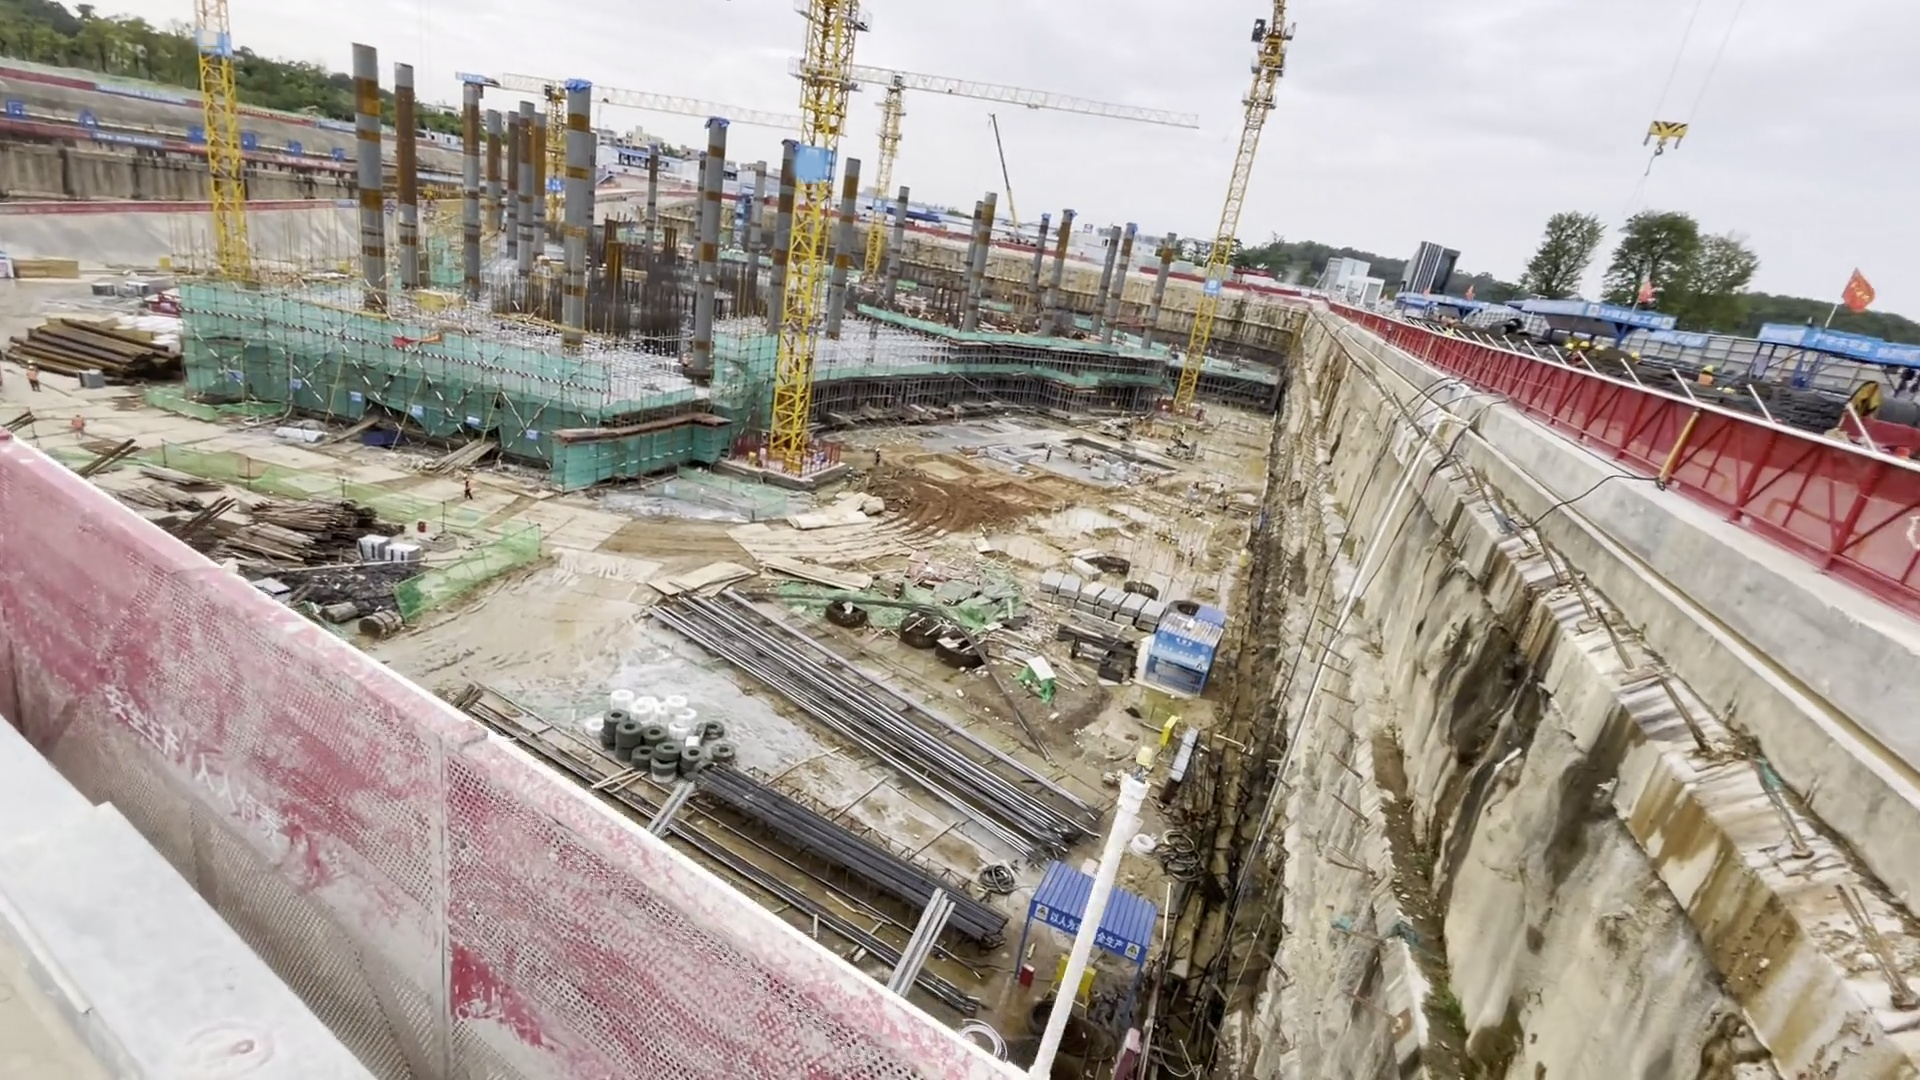board: (671, 549, 871, 590)
brick: (1039, 576, 1163, 634), (362, 534, 429, 569)
ebox: (781, 457, 802, 476)
fence: (1515, 391, 1915, 604)
helmet: (1702, 362, 1719, 373), (1564, 339, 1578, 350), (1579, 340, 1590, 349), (462, 474, 470, 480), (875, 447, 881, 452), (849, 466, 854, 470), (1049, 444, 1053, 449)
hook: (1639, 116, 1687, 157)
person: (24, 361, 44, 398), (456, 473, 479, 502), (844, 465, 854, 491), (873, 444, 884, 464), (1046, 444, 1054, 464)
rebar: (703, 771, 1030, 957)
slogan: (7, 85, 359, 172), (1040, 904, 1145, 959)
vest: (465, 480, 475, 494), (845, 472, 854, 481), (876, 452, 882, 460)
wood: (258, 496, 350, 561)
